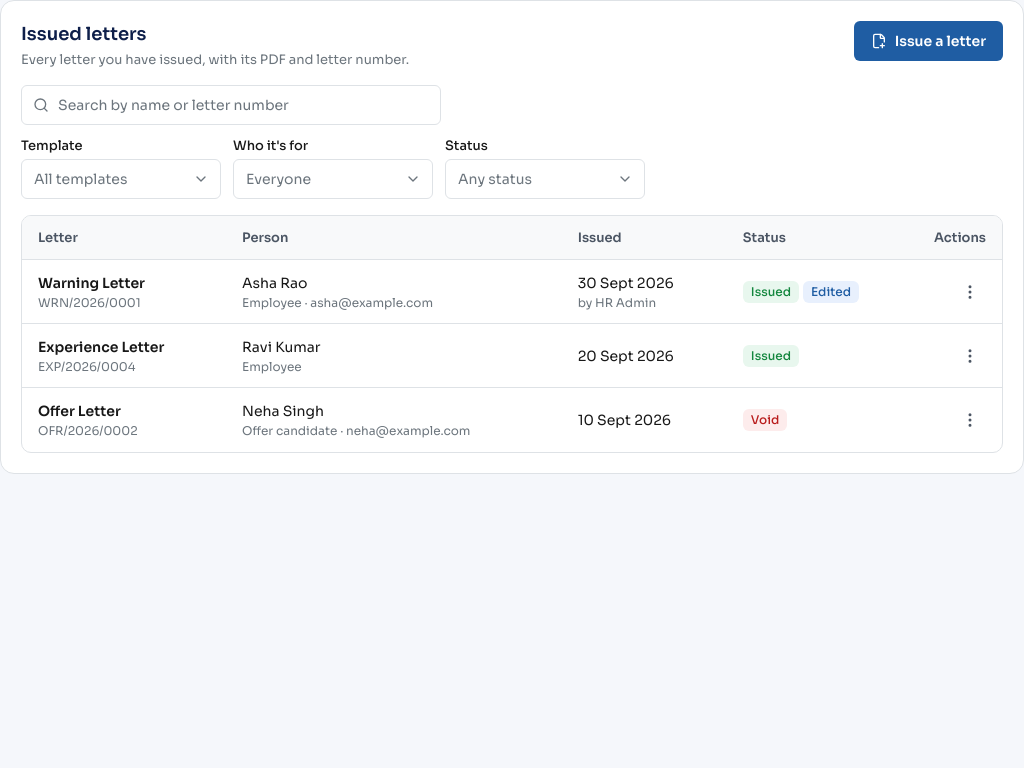
Scenario: emails after confirmation
The image size is (1024, 768).
Expected: the text "WRN/2026/0001" is shown, [38, 294, 141, 310]
What coordinates should you click on to do the following:
click the button named "Actions for WRN/2026/0001 · Asha Rao"
I would click on:
 (970, 292)
Its box is [954, 276, 986, 308].
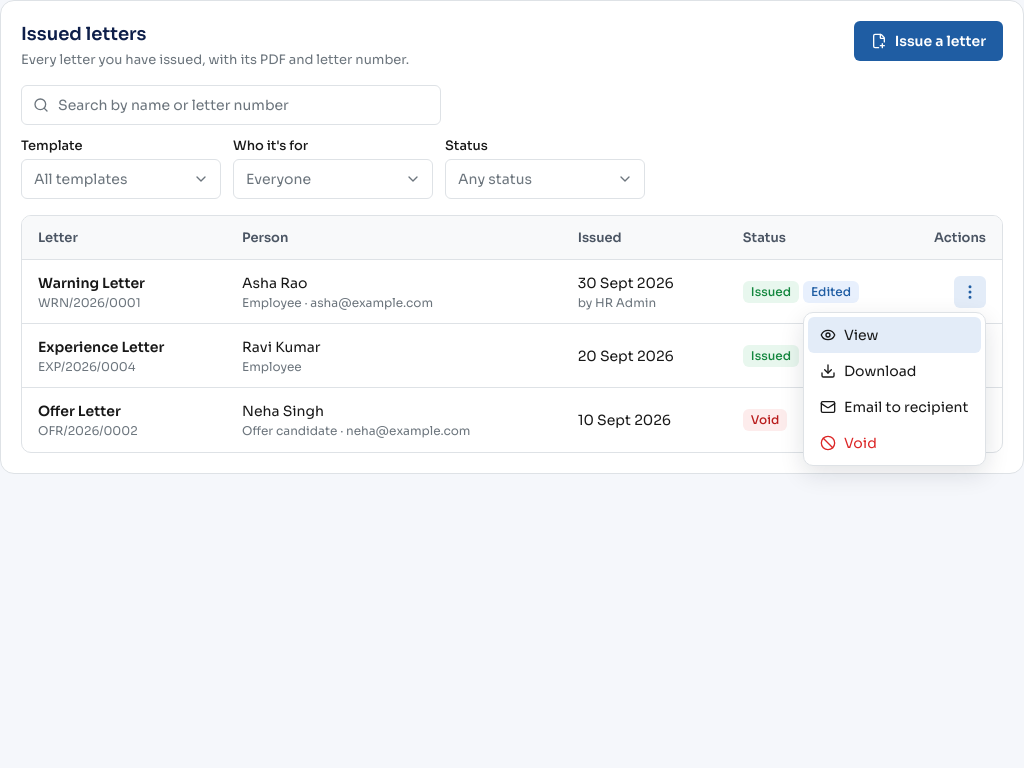
What coordinates should you click on to do the following:
click the menu item "Email to recipient"
I would click on:
 (894, 406)
Its box is [808, 388, 980, 424].
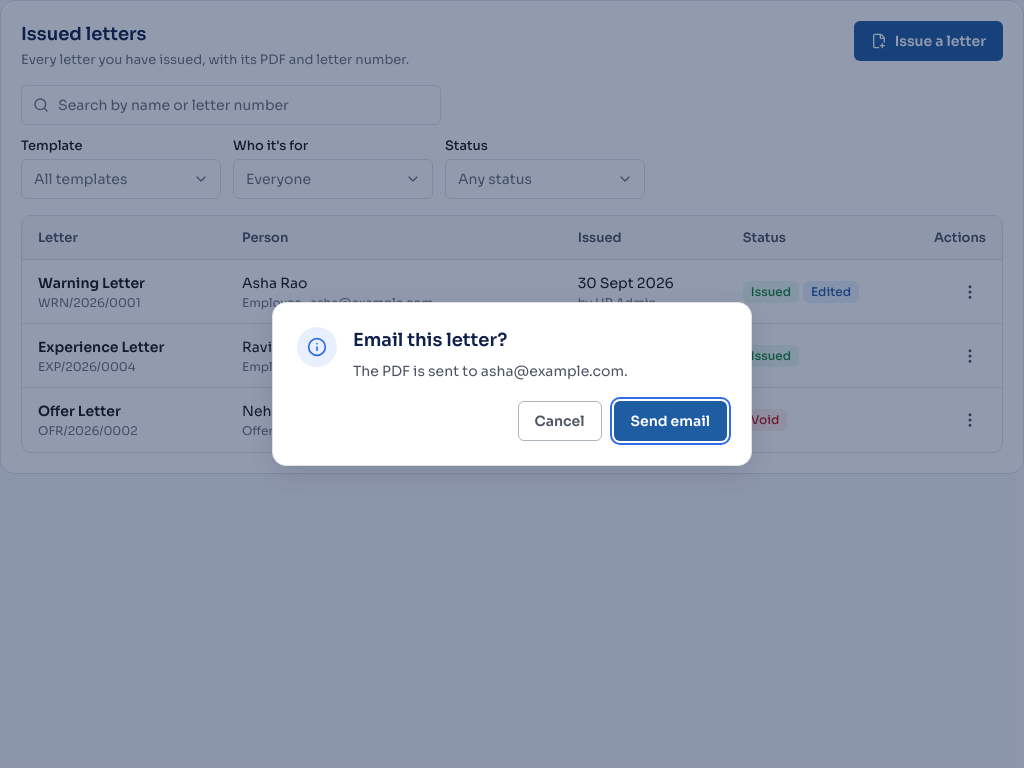
What coordinates should you click on to do the following:
click the button "Send email"
I would click on:
 (670, 421)
Its box is [614, 401, 727, 441].
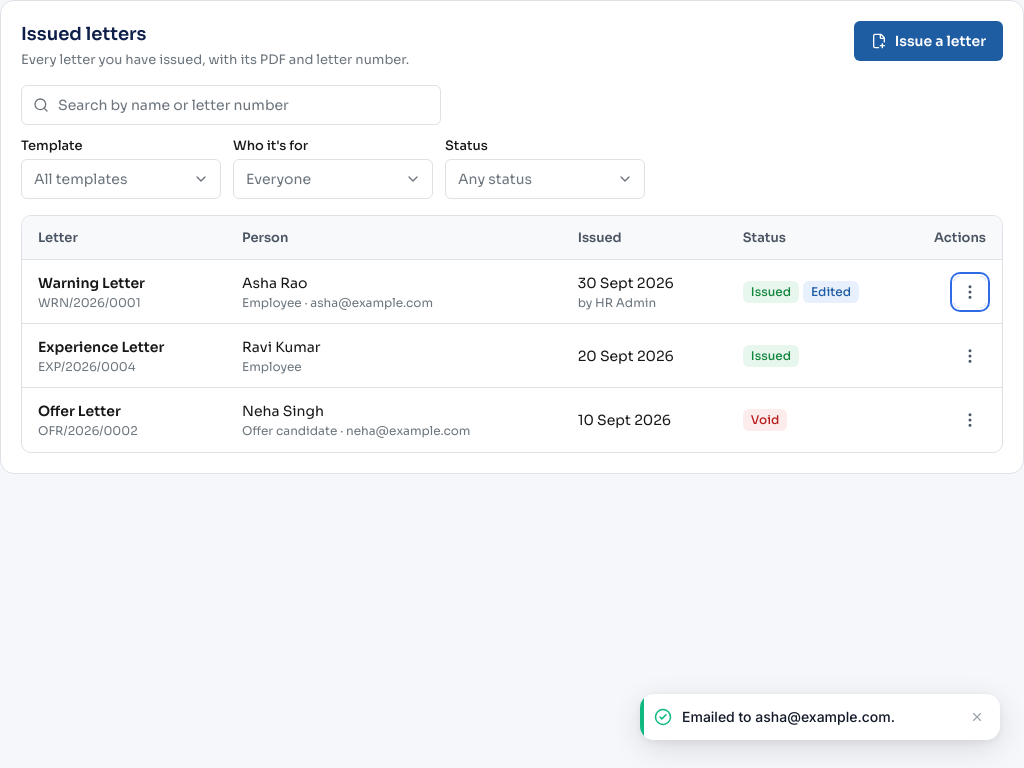
Result: the text "Emailed to asha@example.com." is shown at [682, 708, 895, 725]
